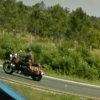Motorcycle: (4, 44, 55, 83)
